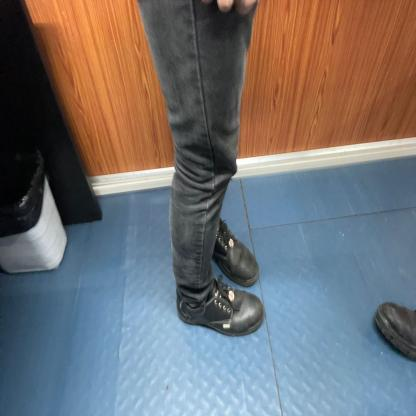bota: (175, 277, 266, 337), (372, 286, 416, 368), (213, 214, 260, 288)
